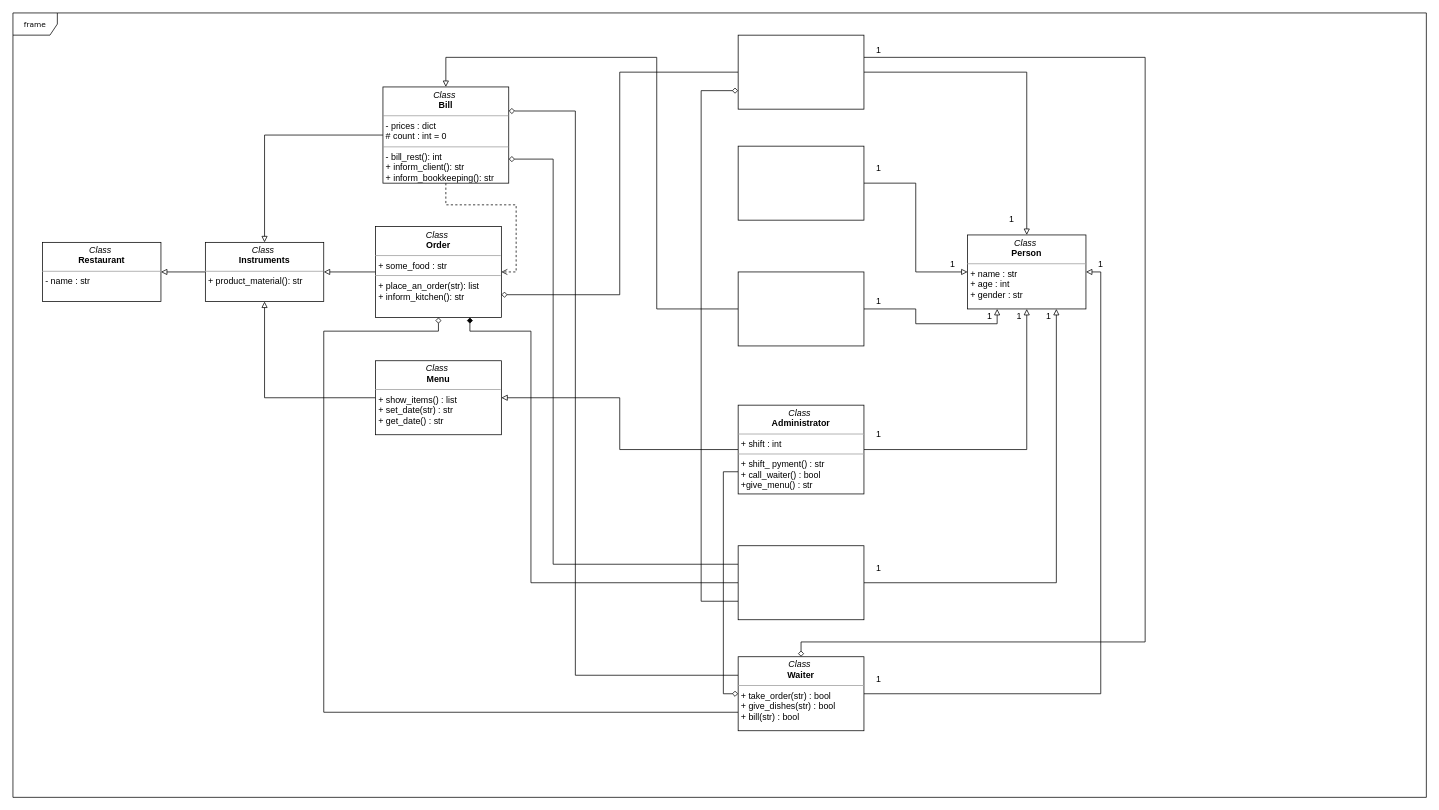
Some shapes in this 1439 by 810 pixel diagram are drawn without their labels. The shapes that lost their labels are listed below. From the top down, each one's centre as x and y in pixels, then its label:
(800,71): Class Cook + time_cooking : float = 20.5 + cook_food(str) : str
(800,182): Class Wardrobe + num_of_place : int = 50 + take_clothes(int) : str
(800,308): Class Bookkeeper # tax : float = 0.18 + generate_report() : str
(800,582): Class Deliver + drive() : bool + give_food(str) : bool + bill(str) : bool
